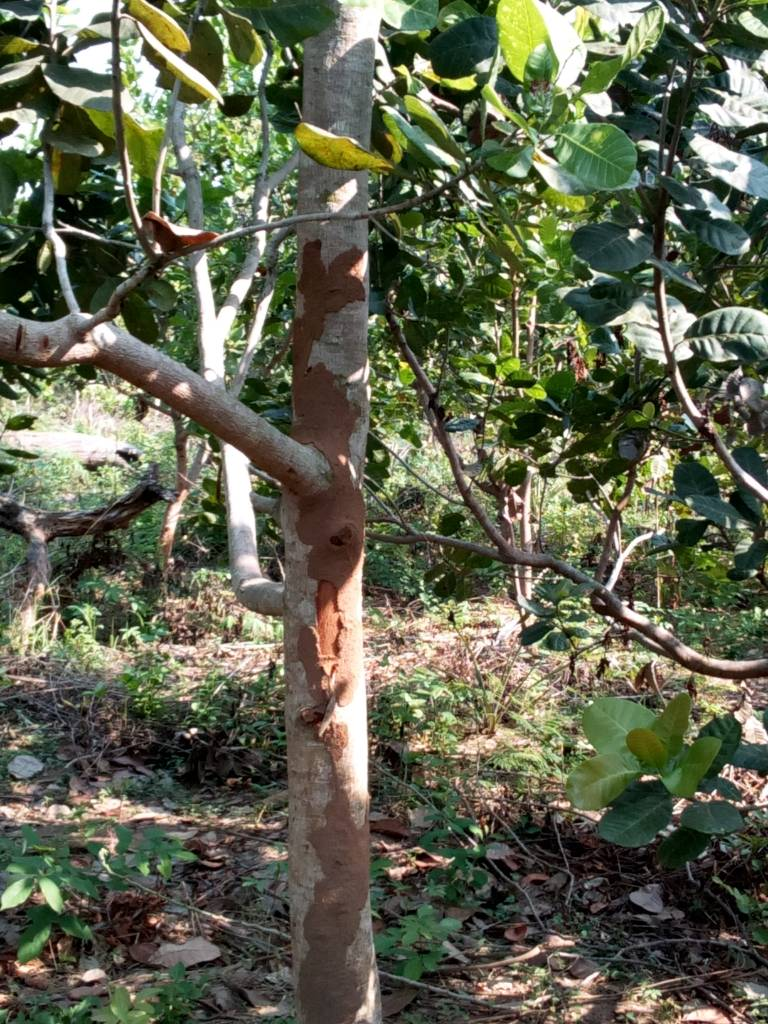Termites: (302, 589, 382, 1017), (286, 247, 368, 577)
